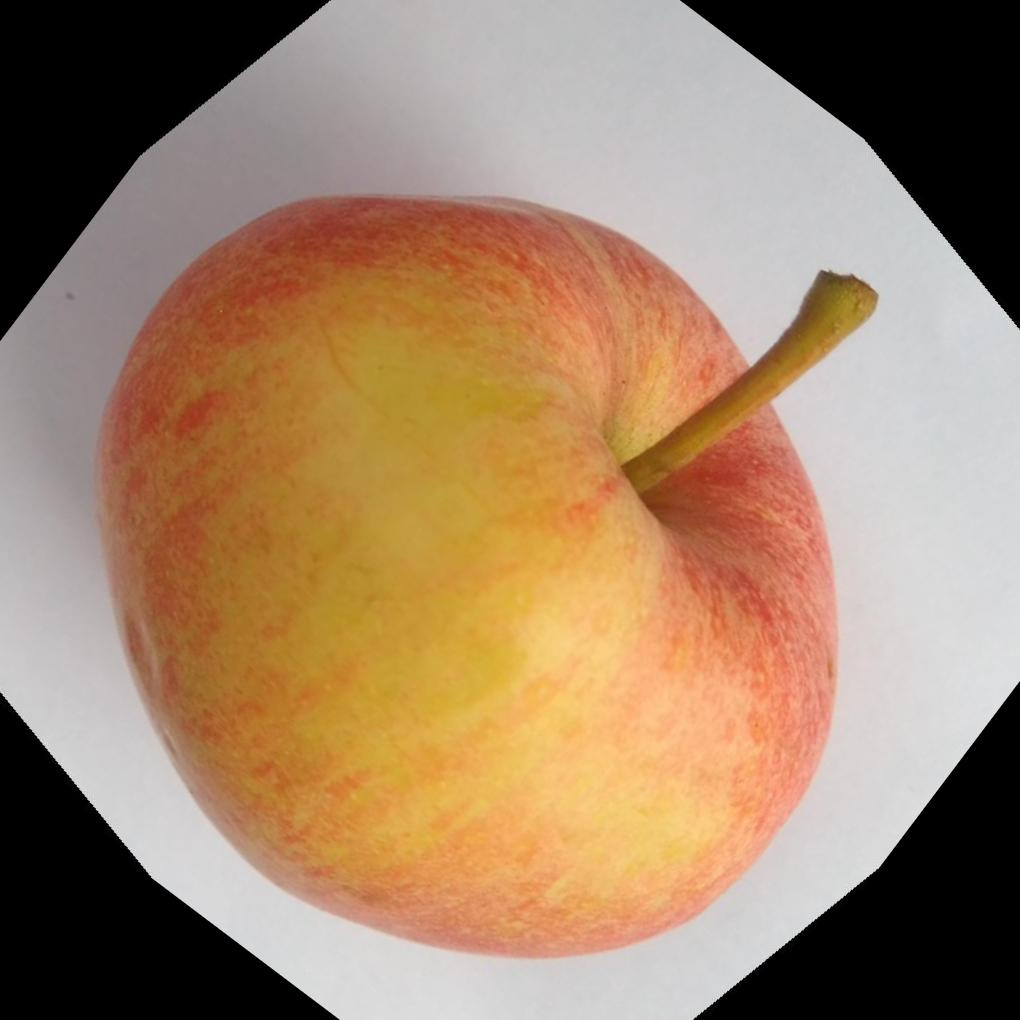FreshGuava: (95, 190, 881, 960)
